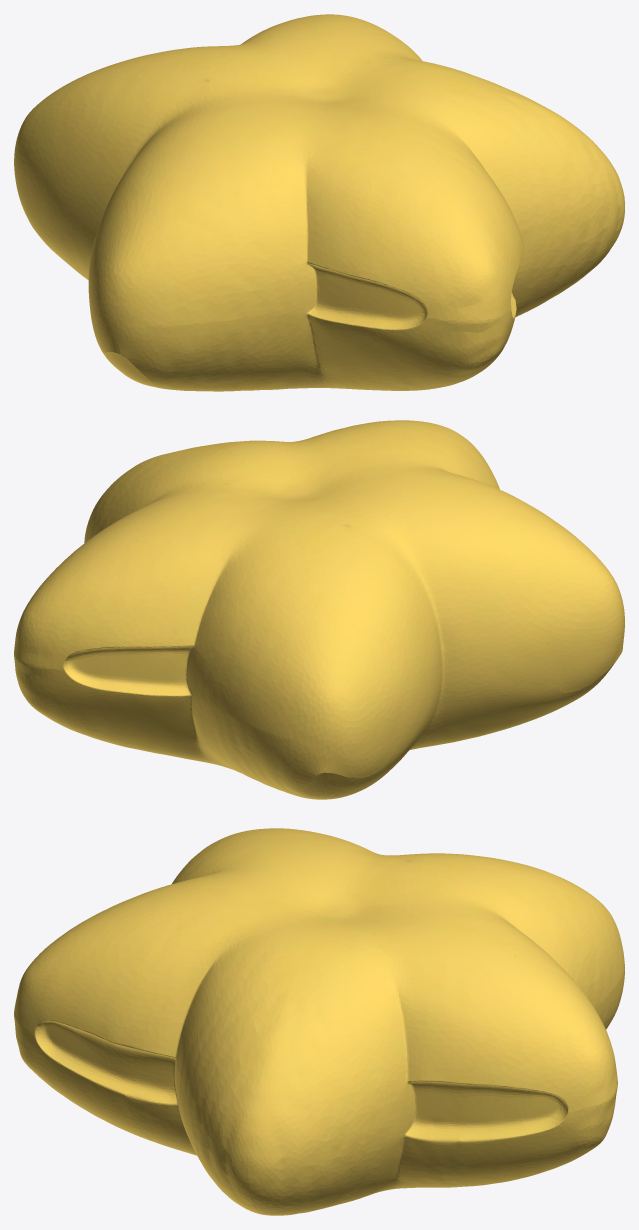
Rendered from star_6.glb.
The picture shows the model from 3 angles, top to bottom: view 1: azimuth 30°, elevation 25°; view 2: azimuth 150°, elevation 25°; view 3: azimuth 270°, elevation 25°; orthographic projection. The views are drawn at different scales.
Parts seen in each view (by area): view 1: tripo_node_5b7ec893-595c-4a1c-a0dd-dd0166479c48; view 2: tripo_node_5b7ec893-595c-4a1c-a0dd-dd0166479c48; view 3: tripo_node_5b7ec893-595c-4a1c-a0dd-dd0166479c48.
Boxes of the visible parts, box(x1,y1,x2,y2) form: tripo_node_5b7ec893-595c-4a1c-a0dd-dd0166479c48: box(14, 14, 624, 391); tripo_node_5b7ec893-595c-4a1c-a0dd-dd0166479c48: box(14, 420, 624, 799); tripo_node_5b7ec893-595c-4a1c-a0dd-dd0166479c48: box(14, 828, 624, 1215).
Bounding box in the file's own units: 0.9537 × 0.4437 × 0.956.
1 material, 1 textured.
